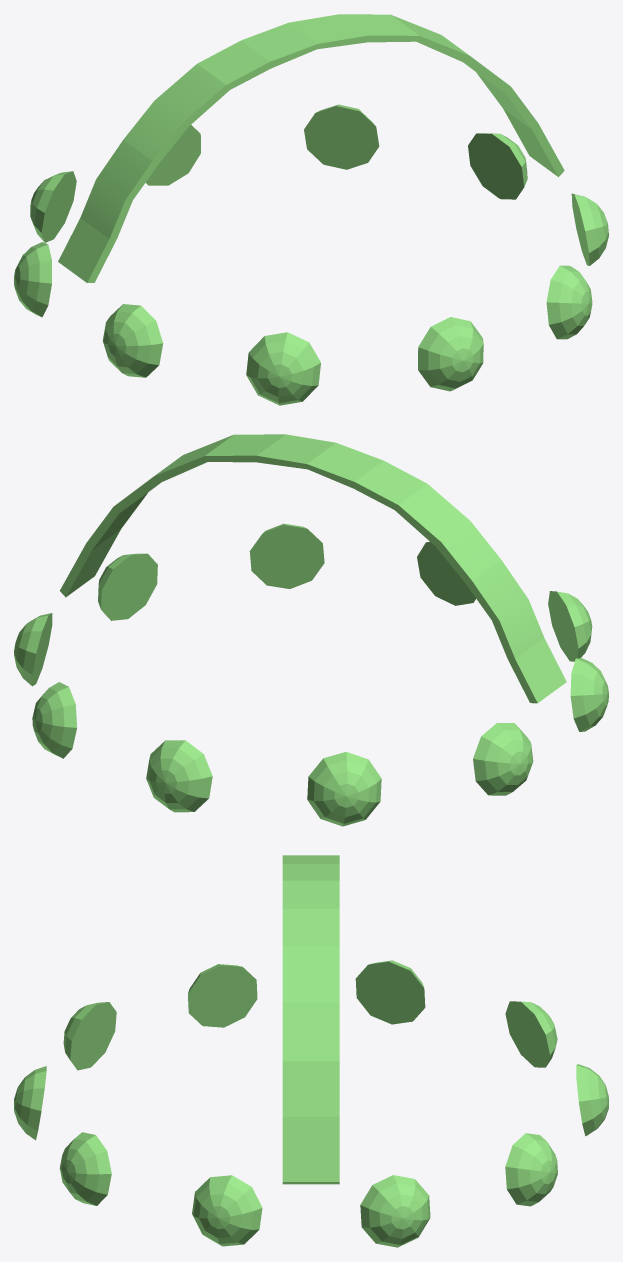
3 views of the same model, one above another, from view 1: azimuth 30°, elevation 25°; view 2: azimuth 150°, elevation 25°; view 3: azimuth 270°, elevation 25° (orthographic). The views are drawn at different scales.
Parts seen in each view (by area): view 1: pSphere12; view 2: pSphere12; view 3: pSphere12.
Part boxes in pixels (x1,y1,x2,y2): pSphere12: [14, 14, 608, 405]; pSphere12: [14, 434, 608, 826]; pSphere12: [14, 855, 608, 1247].
Size of the model in its own units: 12.15 by 5.89 by 12.63.
